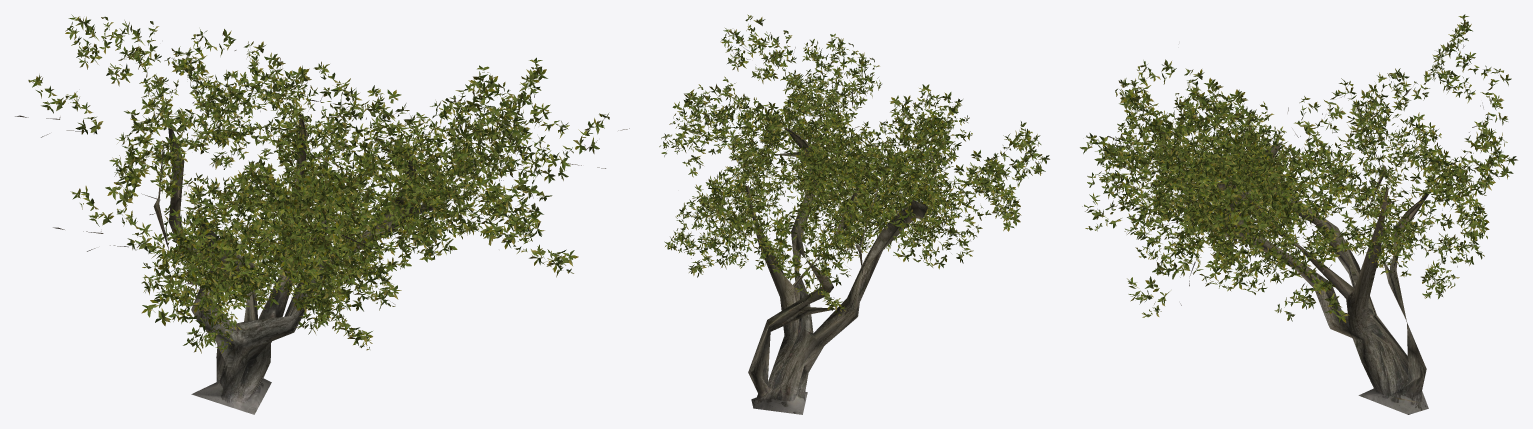
File: forest-tree.glb
3 views of the same model, side by side, from view 1: azimuth 30°, elevation 25°; view 2: azimuth 150°, elevation 25°; view 3: azimuth 270°, elevation 25° (orthographic). The views are drawn at different scales.
Visible parts, largest first — view 1: island_tree_02_LOD0; view 2: island_tree_02_LOD0; view 3: island_tree_02_LOD0.
Boxes of the visible parts, <box> form: island_tree_02_LOD0: <box>15,14,629,414</box>; island_tree_02_LOD0: <box>659,14,1049,414</box>; island_tree_02_LOD0: <box>1080,14,1517,414</box>.
Bounding box in the file's own units: 4.21 × 3.4 × 4.09.
Materials: 3 (3 with a texture image).
